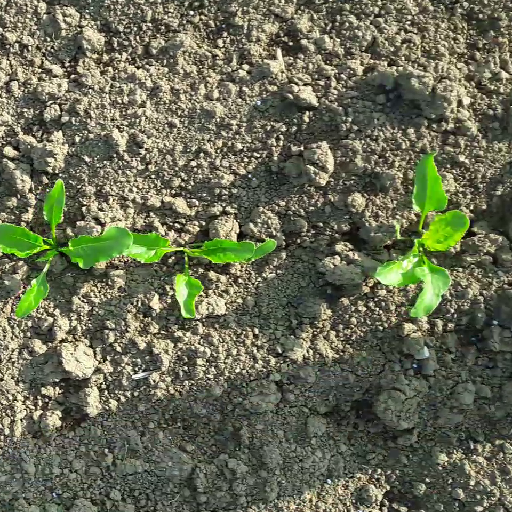sugarbeet: (1, 175, 133, 323), (371, 146, 474, 323), (119, 225, 280, 319)
